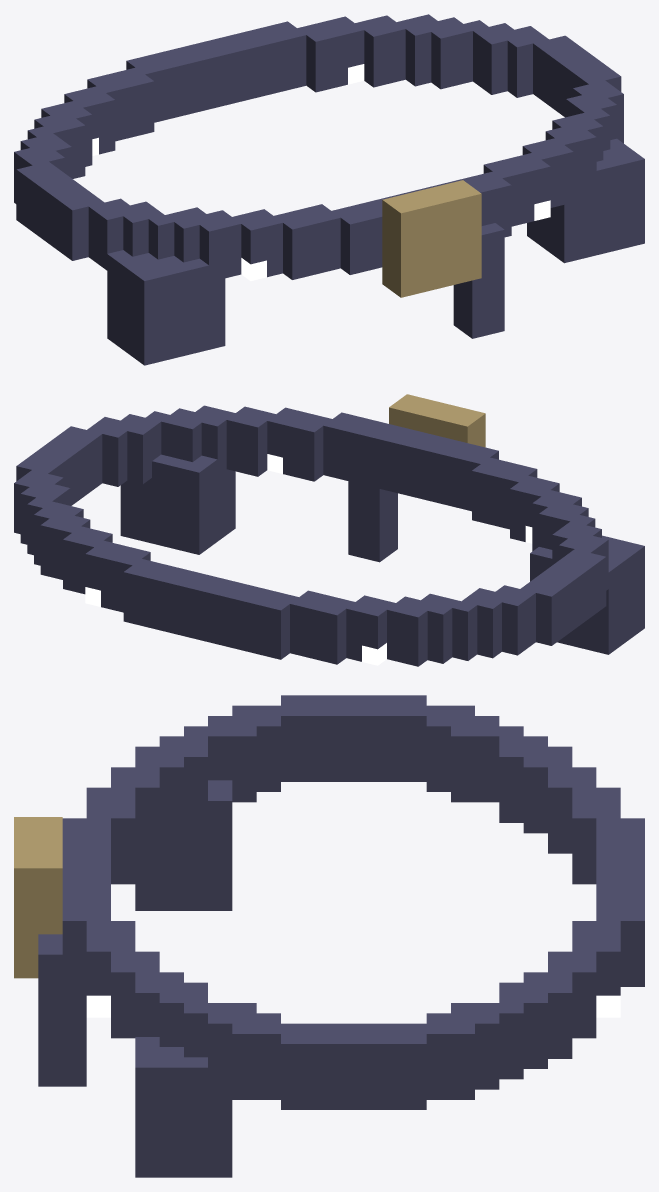
Rendered from mystic_rare_belt.glb.
The picture shows the model from 3 angles, top to bottom: view 1: azimuth 30°, elevation 25°; view 2: azimuth 150°, elevation 25°; view 3: azimuth 270°, elevation 25°; orthographic projection. The views are drawn at different scales.
Visible parts, largest first — view 1: mystic_rare_belt; view 2: mystic_rare_belt; view 3: mystic_rare_belt.
Part boxes in pixels (x1,y1,x2,y2): mystic_rare_belt: (14,14,644,365); mystic_rare_belt: (14,394,644,666); mystic_rare_belt: (14,695,644,1177).
Size of the model in its own units: 0.408 by 0.108 by 0.312.
